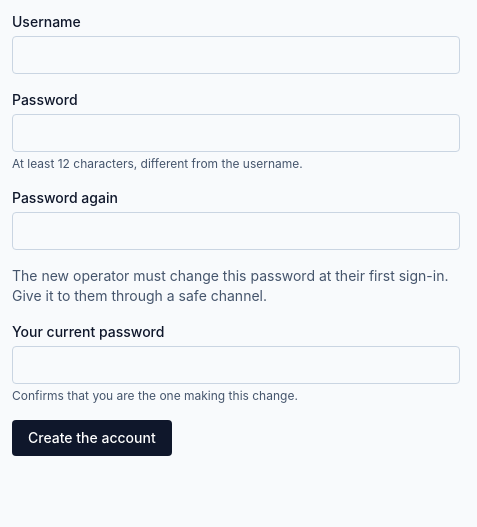
Test: CreateOperatorForm › posts the fields, then empties the form and says it is done
Type "bob" into the field labelled "Username" at (236, 55), box [12,36,460,74]
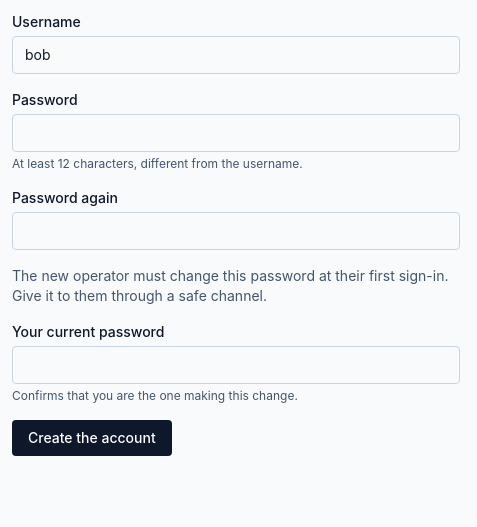
Type "correct horse battery" into the password field labelled "Password" at (236, 133), box [12,114,460,152]
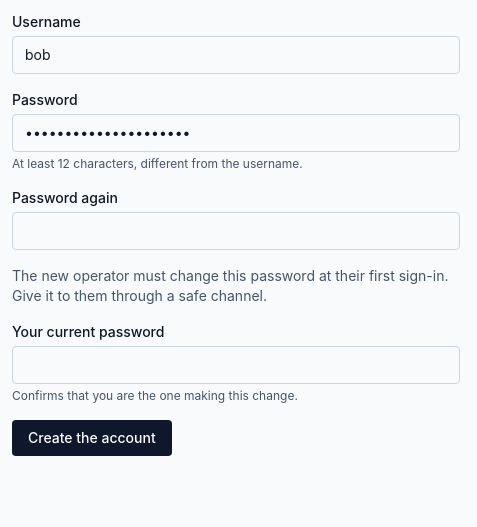
Type "correct horse battery" into the password field labelled "Password again" at (236, 231), box [12,212,460,250]
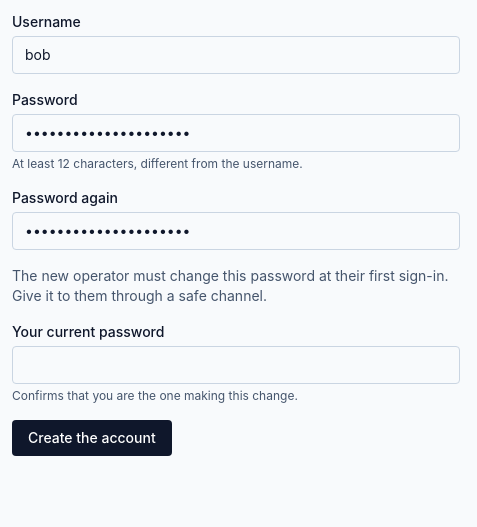
Type "my current password" into the password field labelled "Your current password" at (236, 365), box [12,346,460,384]
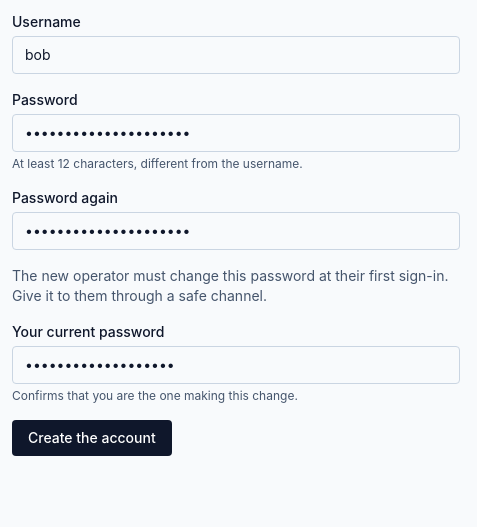
Click the button "Create the account" at (92, 438), box [12,420,172,456]
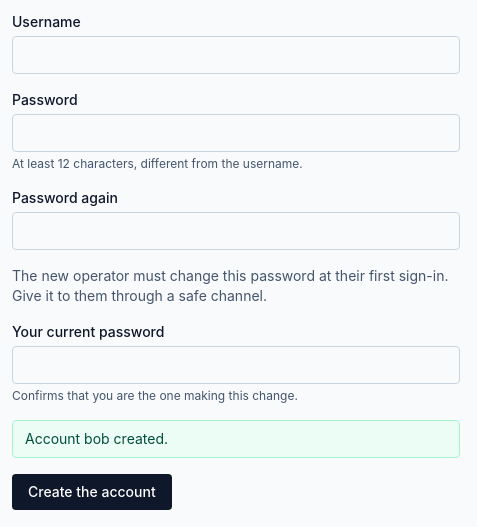
expect the message reads "Account bob created.": met, box [25,430,168,447]
expect the field labelled "Username" is empty: met, box [12,36,460,74]
expect the password field labelled "Password" is empty: met, box [12,114,460,152]
